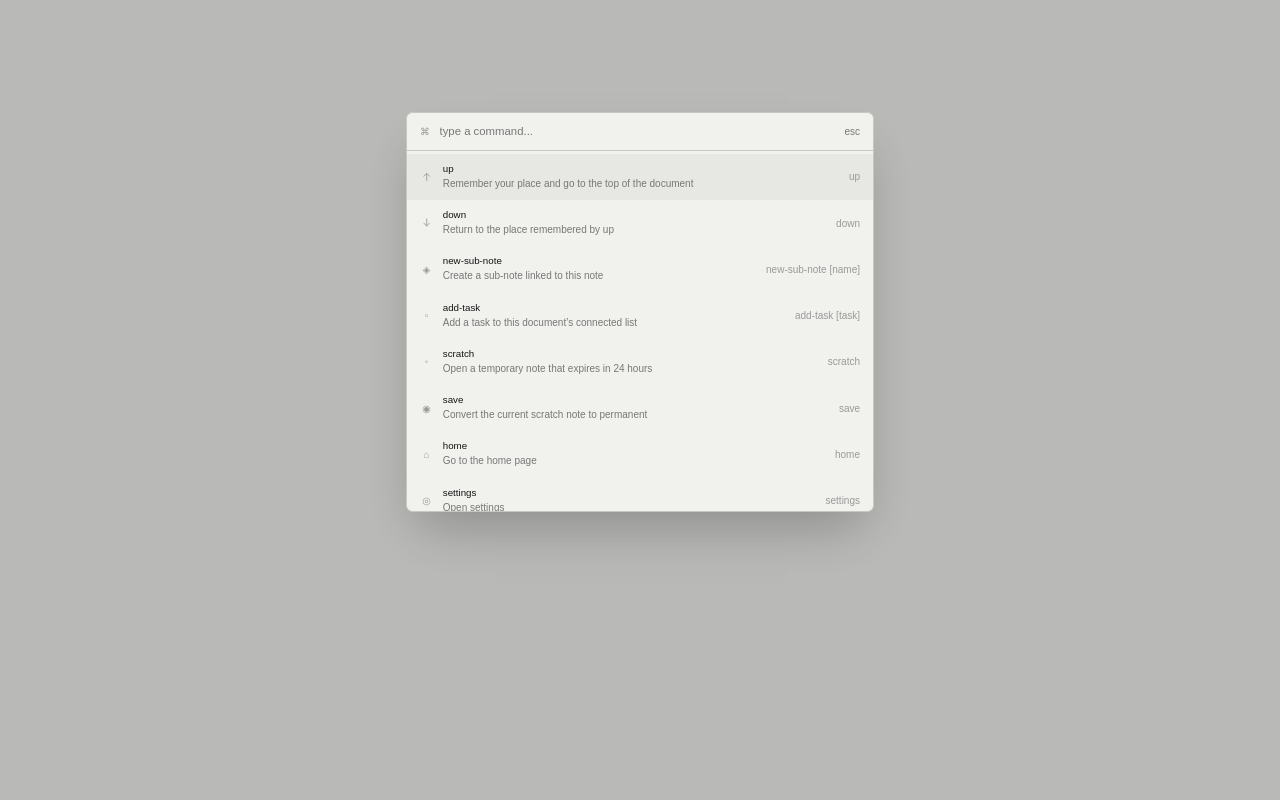
Scenario: command palette workflows › explains when the document has no connected list
Type "add-task Ship it" into the field with placeholder "type a command...".
click(637, 131); type("add-task Ship it")  # box [440,123,835,139]
Then press Enter
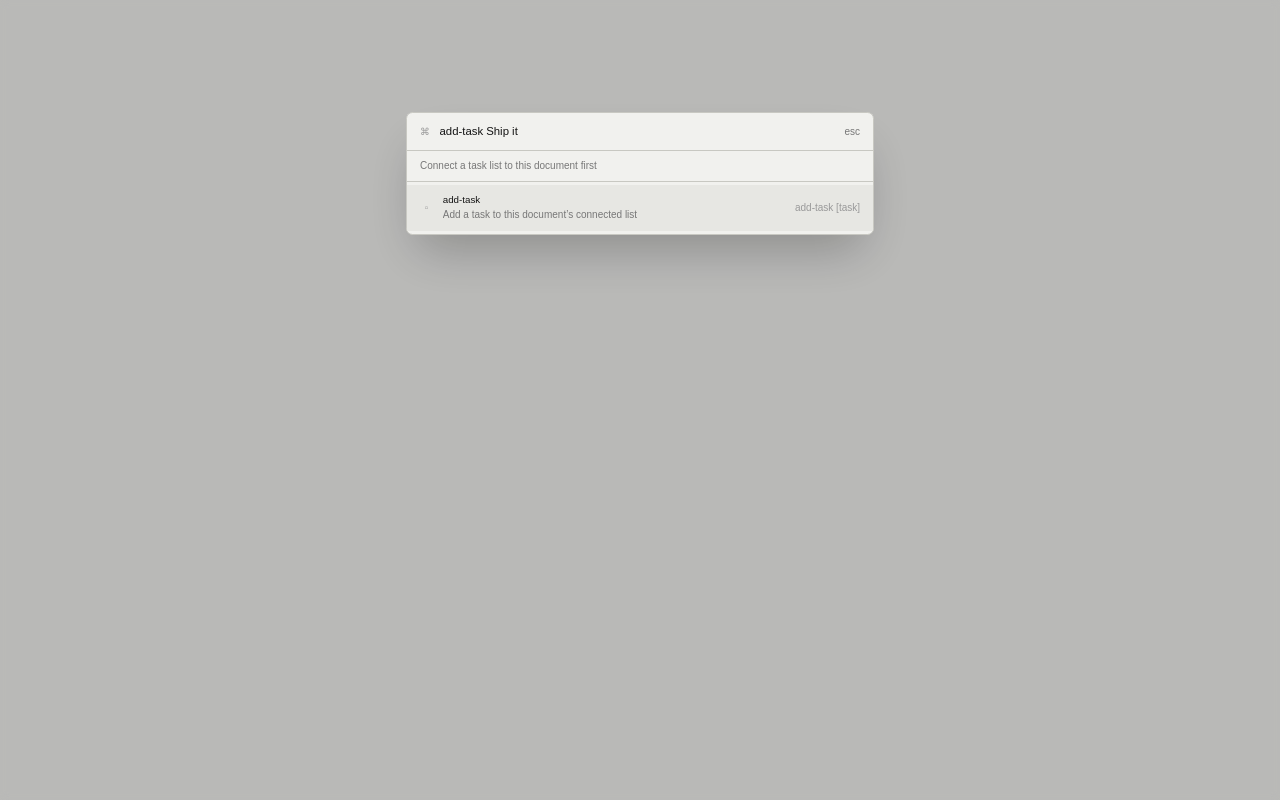
Expected: the text "Connect a task list to this document first" is shown, [407,150,873,182]
